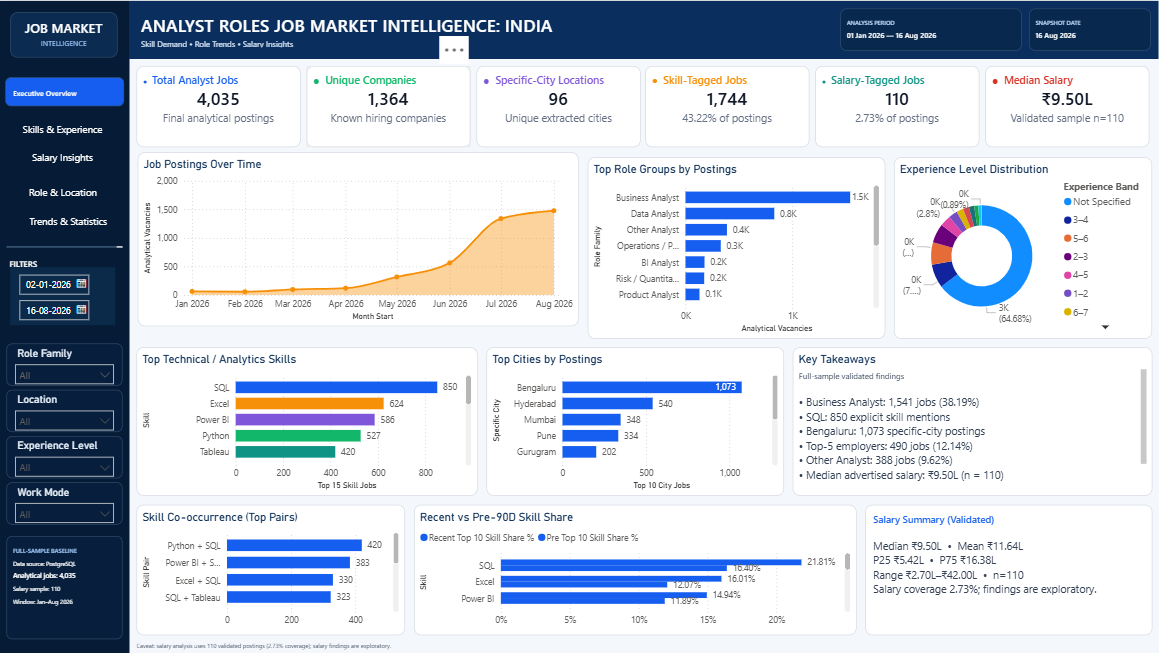

The page's visual inventory and layout, read from the dashboard file:
{"tool":"powerbi","page":{"name":"Executive Overview","canvas":[1600,900],"ordinal":0},"visuals":[{"type":"textbox","box":[0,0,180,900],"z":0},{"type":"textbox","box":[16,16,148,62],"z":1000},{"type":"textbox","box":[8,105,164,40],"z":2000},{"type":"textbox","box":[10,338,160,2],"z":3000},{"type":"textbox","box":[10,348,160,28],"z":4000},{"type":"slicer","fields":{"Values":["Jobs.Role Family"]},"box":[10,472,160,58],"z":5000},{"type":"slicer","fields":{"Values":["Jobs.Specific City"]},"box":[10,536,160,58],"z":6000},{"type":"slicer","fields":{"Values":["Jobs.Experience Band"]},"box":[10,600,160,58],"z":7000},{"type":"slicer","fields":{"Values":["Jobs.Work Mode"]},"box":[10,664,160,58],"z":8000},{"type":"textbox","box":[10,738,160,142],"z":9000},{"type":"textbox","box":[180,0,1420,80],"z":10000},{"type":"textbox","box":[1160,10,250,58],"z":11000},{"type":"textbox","box":[1420,10,168,58],"z":12000},{"type":"textbox","box":[190,90,226,112],"z":13000},{"type":"textbox","box":[424,90,226,112],"z":14000},{"type":"textbox","box":[658,90,226,112],"z":15000},{"type":"textbox","box":[892,90,226,112],"z":16000},{"type":"textbox","box":[1126,90,226,112],"z":17000},{"type":"textbox","box":[1360,90,226,112],"z":18000},{"type":"lineChart","title":"Job Postings Over Time","fields":{"Category":["Jobs.Month Start"],"Y":["Jobs.Analytical Vacancies"]},"box":[192,208,608,240],"z":19000},{"type":"barChart","title":"Top Role Groups by Postings","fields":{"Category":["Jobs.Role Family"],"Y":["Jobs.Analytical Vacancies"]},"box":[812,215,410,250],"z":20000},{"type":"barChart","title":"Top Technical / Analytics Skills","fields":{"Category":["Skills.Skill"],"Y":["Skills.Top 15 Skill Jobs"]},"box":[190,477,470,205],"z":21000},{"type":"barChart","title":"Top Cities by Postings","fields":{"Category":["Jobs.Specific City"],"Y":["Jobs.Top 10 City Jobs"]},"box":[672,477,410,205],"z":22000},{"type":"textbox","title":"Key Takeaways","box":[1094,477,496,205],"z":23000},{"type":"donutChart","title":"Experience Level Distribution","fields":{"Category":["Jobs.Experience Band"],"Y":["Jobs.Analytical Vacancies"]},"box":[1234,215,356,250],"z":24000},{"type":"barChart","title":"Skill Co-occurrence (Top Pairs)","fields":{"Category":["SkillPairs.Skill Pair"],"Y":["SkillPairs.Top 10 Pair Jobs"]},"box":[190,694,370,180],"z":25000},{"type":"clusteredBarChart","title":"Recent vs Pre-90D Skill Share","fields":{"Category":["Skills.Skill"],"Y":["Skills.Recent Top 10 Skill Share %","Skills.Pre Top 10 Skill Share %"]},"box":[572,694,610,180],"z":26000},{"type":"textbox","box":[1194,694,396,180],"z":27000},{"type":"textbox","box":[190,878,1400,18],"z":28000},{"type":"actionButton","box":[16,160,144,32],"z":29000},{"type":"actionButton","box":[16,192,144,48],"z":30000},{"type":"actionButton","box":[0,240,176,48],"z":31000},{"type":"actionButton","box":[16,288,160,32],"z":32000},{"type":"slicer","fields":{"Values":["Jobs.Posted Date"]},"box":[16,368,144,80],"z":33000}]}

Visuals, with their boxes on the page's 1600x900 design canvas (x1, y1, x2, y2). These are canvas units, not pixel positions in the 1159x653 screenshot, which may show the page scaled, cropped or inside an application window:
textbox: region(0, 0, 180, 900)
textbox: region(16, 16, 164, 78)
textbox: region(8, 105, 172, 145)
textbox: region(10, 338, 170, 340)
textbox: region(10, 348, 170, 376)
slicer - Jobs.Role Family: region(10, 472, 170, 530)
slicer - Jobs.Specific City: region(10, 536, 170, 594)
slicer - Jobs.Experience Band: region(10, 600, 170, 658)
slicer - Jobs.Work Mode: region(10, 664, 170, 722)
textbox: region(10, 738, 170, 880)
textbox: region(180, 0, 1600, 80)
textbox: region(1160, 10, 1410, 68)
textbox: region(1420, 10, 1588, 68)
textbox: region(190, 90, 416, 202)
textbox: region(424, 90, 650, 202)
textbox: region(658, 90, 884, 202)
textbox: region(892, 90, 1118, 202)
textbox: region(1126, 90, 1352, 202)
textbox: region(1360, 90, 1586, 202)
"Job Postings Over Time" lineChart: region(192, 208, 800, 448)
"Top Role Groups by Postings" barChart: region(812, 215, 1222, 465)
"Top Technical / Analytics Skills" barChart: region(190, 477, 660, 682)
"Top Cities by Postings" barChart: region(672, 477, 1082, 682)
"Key Takeaways" textbox: region(1094, 477, 1590, 682)
"Experience Level Distribution" donutChart: region(1234, 215, 1590, 465)
"Skill Co-occurrence (Top Pairs)" barChart: region(190, 694, 560, 874)
"Recent vs Pre-90D Skill Share" clusteredBarChart: region(572, 694, 1182, 874)
textbox: region(1194, 694, 1590, 874)
textbox: region(190, 878, 1590, 896)
actionButton: region(16, 160, 160, 192)
actionButton: region(16, 192, 160, 240)
actionButton: region(0, 240, 176, 288)
actionButton: region(16, 288, 176, 320)
slicer - Jobs.Posted Date: region(16, 368, 160, 448)
